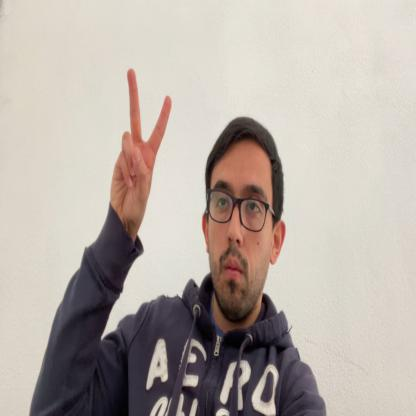V: (110, 67, 172, 224)
